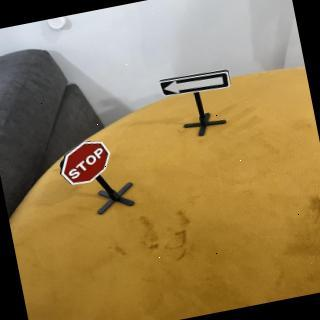sign_oneway_left: (157, 67, 233, 103)
sign_stop: (55, 134, 117, 191)
